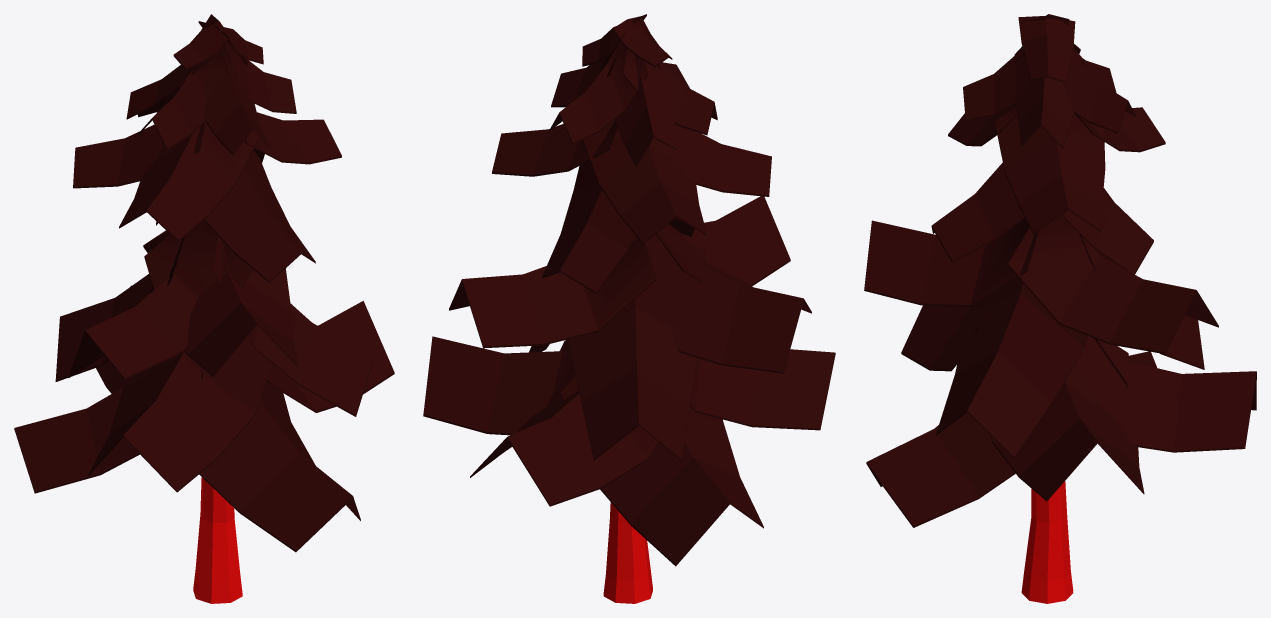
The model's file is Pine tree small 2.fbx.
3 views of the same model, side by side, from view 1: azimuth 30°, elevation 25°; view 2: azimuth 150°, elevation 25°; view 3: azimuth 270°, elevation 25° (orthographic).
Visible parts, largest first — view 1: SM_Tree_Pine_Small_02; view 2: SM_Tree_Pine_Small_02; view 3: SM_Tree_Pine_Small_02.
Boxes of the visible parts, x1=… form: SM_Tree_Pine_Small_02: x1=14, y1=14, x2=394, y2=603; SM_Tree_Pine_Small_02: x1=423, y1=14, x2=835, y2=603; SM_Tree_Pine_Small_02: x1=864, y1=14, x2=1256, y2=603.
Bounding box in the file's own units: 192 × 311 × 192.
